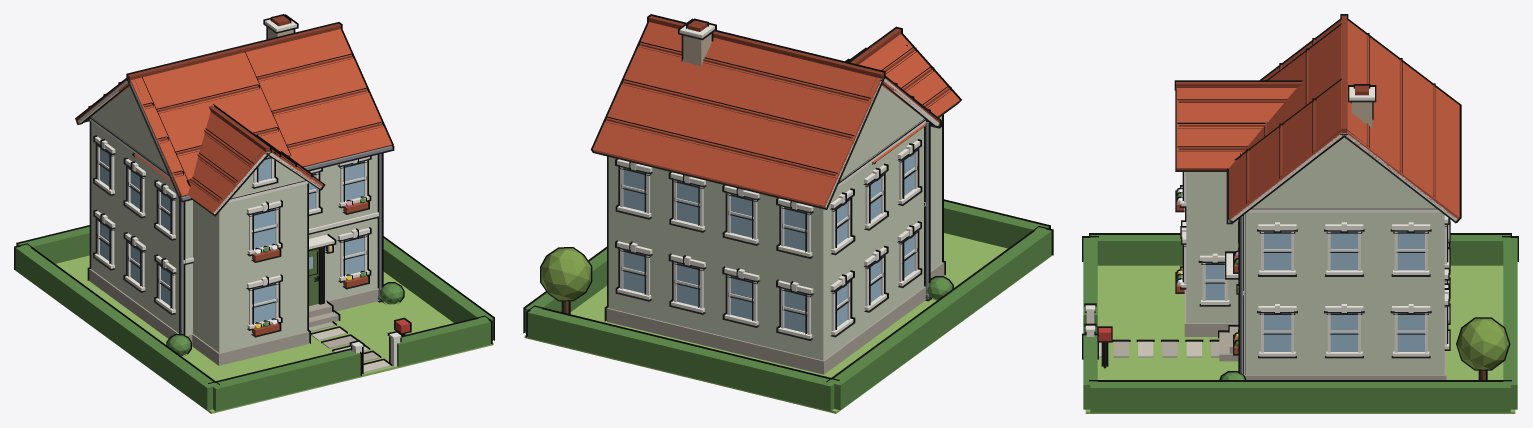
File: MustakilEv_avrupa_3_1.fbx
3 views of the same model, side by side, from view 1: azimuth 30°, elevation 25°; view 2: azimuth 150°, elevation 25°; view 3: azimuth 270°, elevation 25° (orthographic). The views are drawn at different scales.
Parts seen in each view (by area): view 1: MustakilEv_avrupa_3_1; view 2: MustakilEv_avrupa_3_1; view 3: MustakilEv_avrupa_3_1.
Part boxes in pixels (bbox=[...]): MustakilEv_avrupa_3_1: bbox=[14, 14, 494, 413]; MustakilEv_avrupa_3_1: bbox=[523, 14, 1053, 413]; MustakilEv_avrupa_3_1: bbox=[1082, 14, 1518, 413].
Size of the model in its own units: 11.34 by 9.61 by 13.59.
